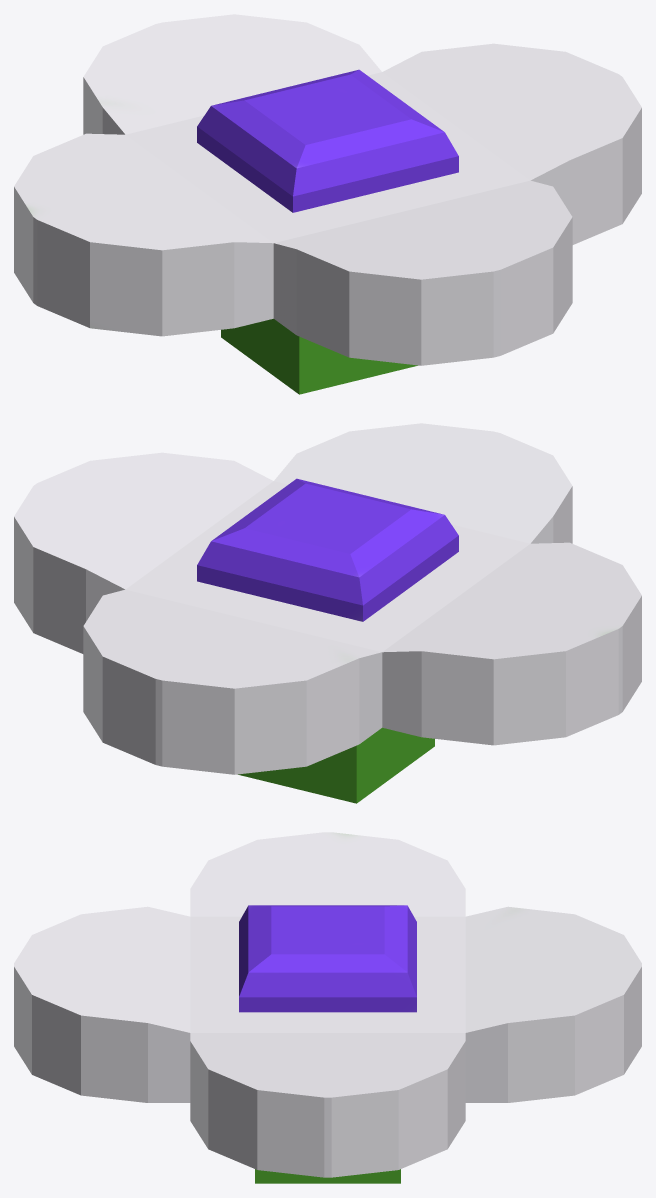
File: FlorAzul.fbx
The picture shows the model from 3 angles, top to bottom: view 1: azimuth 30°, elevation 25°; view 2: azimuth 150°, elevation 25°; view 3: azimuth 270°, elevation 25°; orthographic projection. The views are drawn at different scales.
Visible parts, largest first — view 1: FlorAzul; view 2: FlorAzul; view 3: FlorAzul.
Part boxes in pixels (x1,y1,x2,y2): FlorAzul: [14, 14, 641, 394]; FlorAzul: [14, 423, 641, 803]; FlorAzul: [14, 832, 641, 1183].
Bounding box in the file's own units: 70.3 × 27.49 × 70.3.
Materials: 1 (1 with a texture image).
